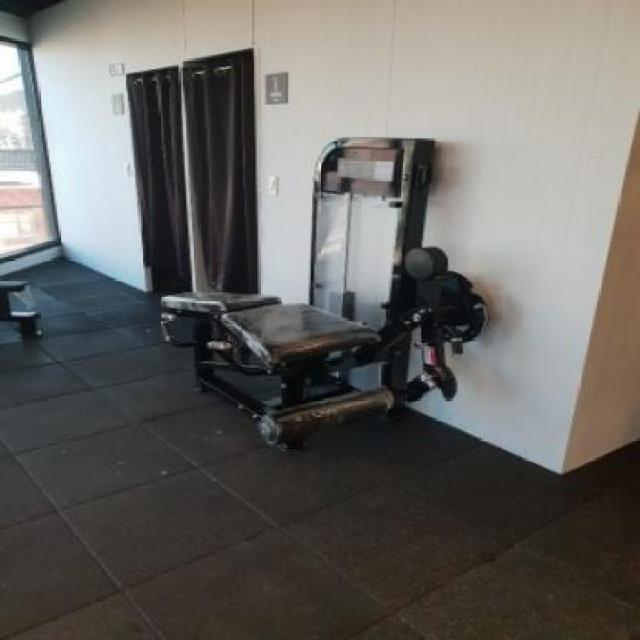reg curl machine: (144, 130, 496, 456)
